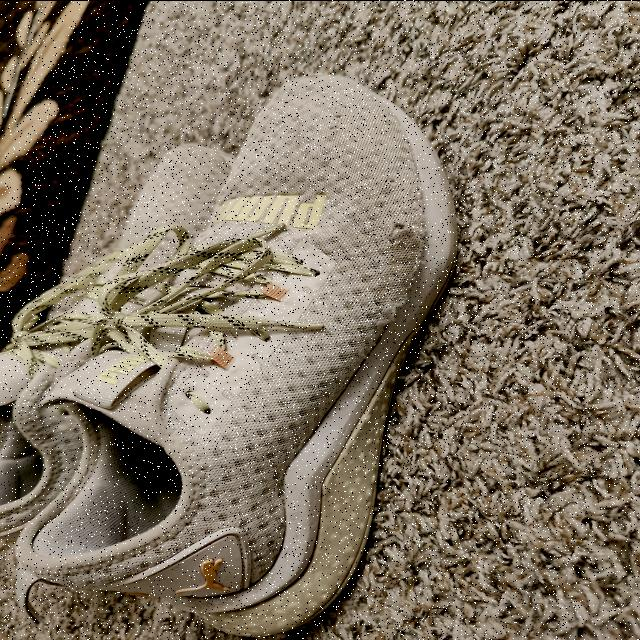white shoes: (0, 74, 452, 632)
